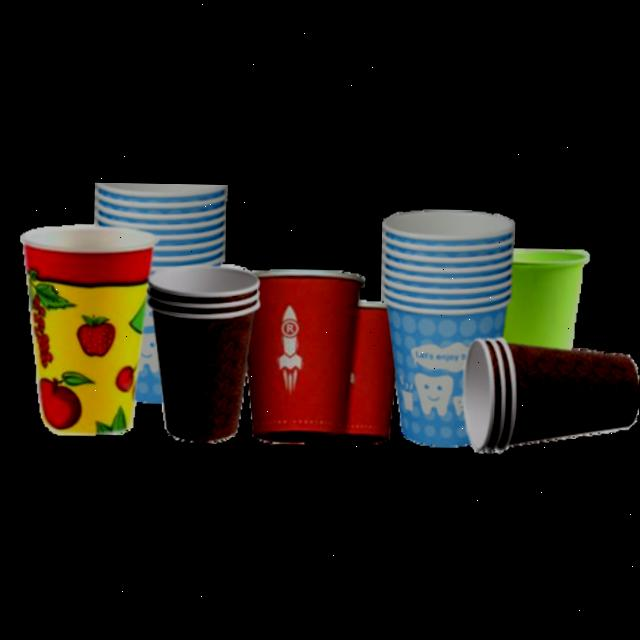trash: (14, 224, 160, 434), (242, 264, 364, 442), (374, 296, 512, 446), (144, 304, 260, 442)
